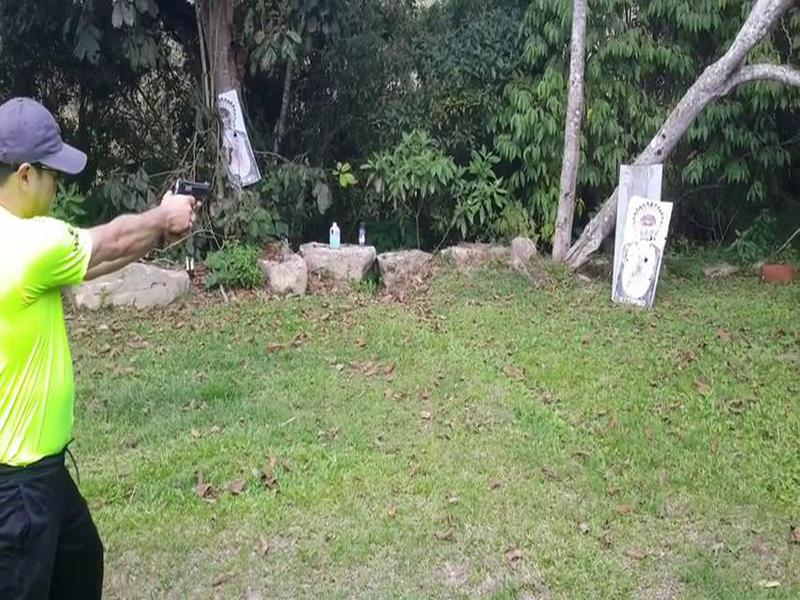Pistola: (160, 167, 222, 209)
